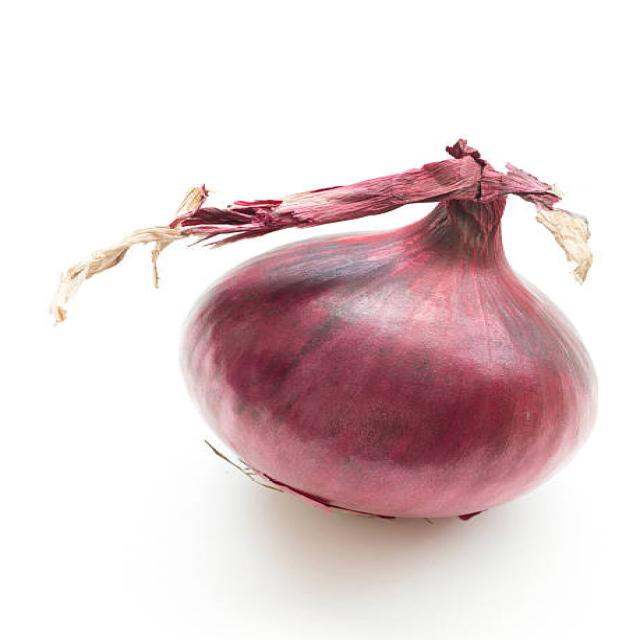onion: (194, 216, 615, 526)
